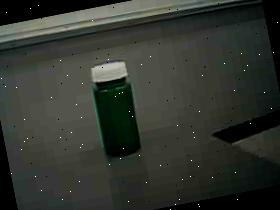Bottle C: (78, 50, 157, 170)
